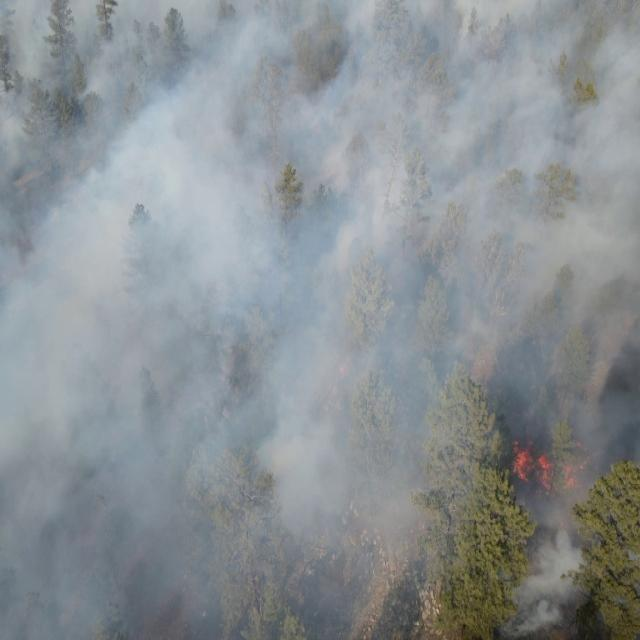fire: (510, 441, 592, 498)
smoke: (1, 0, 482, 640), (483, 2, 640, 503), (502, 502, 606, 640), (623, 534, 640, 594)
